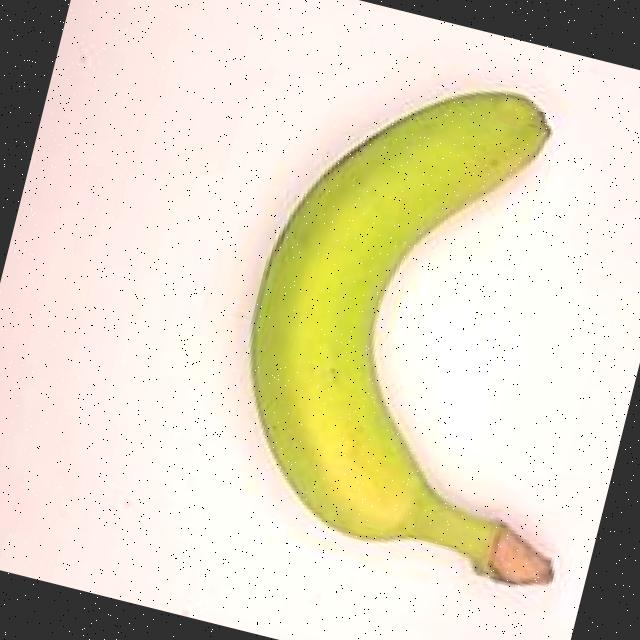Unripe: (157, 5, 640, 640)
